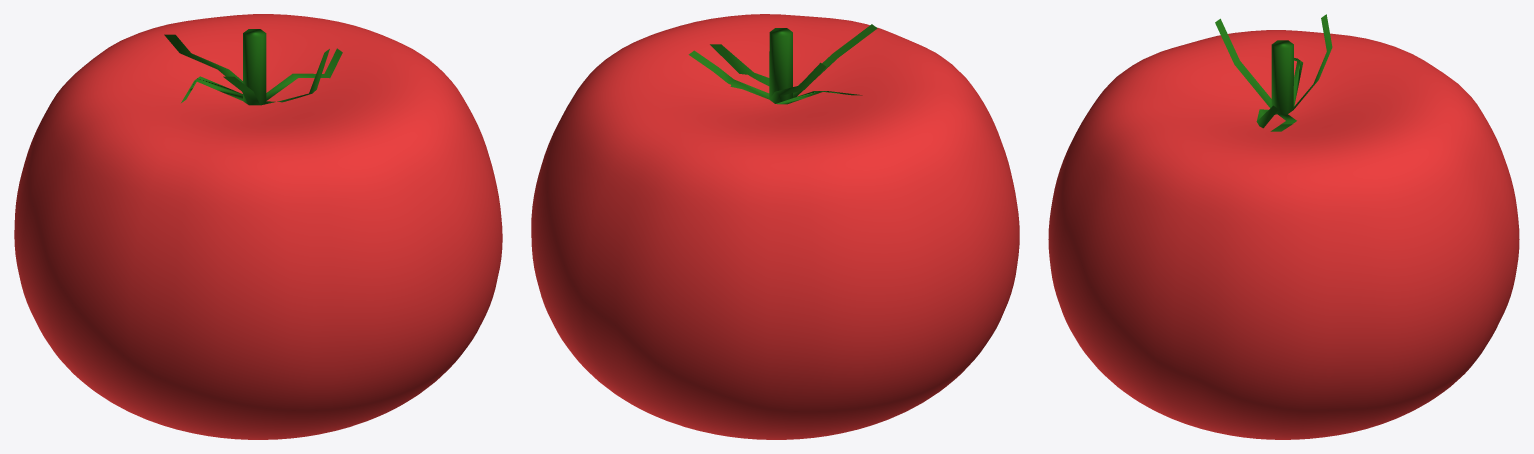
The model's file is tomato.glb.
3 views of the same model, side by side, from view 1: azimuth 30°, elevation 25°; view 2: azimuth 150°, elevation 25°; view 3: azimuth 270°, elevation 25° (orthographic). The views are drawn at different scales.
Parts seen in each view (by area): view 1: Sphere, Cylinder; view 2: Sphere, Cylinder; view 3: Sphere, Cylinder.
Boxes of the visible parts, x1,y1,x2,y2 form: Sphere: (14,14,502,439); Cylinder: (164,29,342,105); Sphere: (531,14,1019,439); Cylinder: (688,24,877,104); Sphere: (1048,30,1519,439); Cylinder: (1215,14,1332,131).
Size of the model in its own units: 2 by 1.71 by 2.
